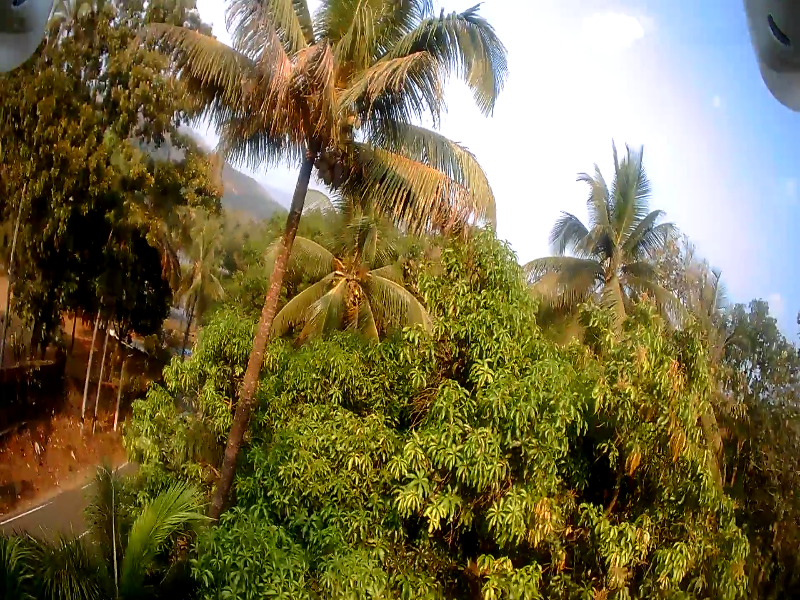coconut: (312, 155, 327, 169), (342, 113, 353, 124), (332, 161, 340, 176), (323, 170, 328, 178)
